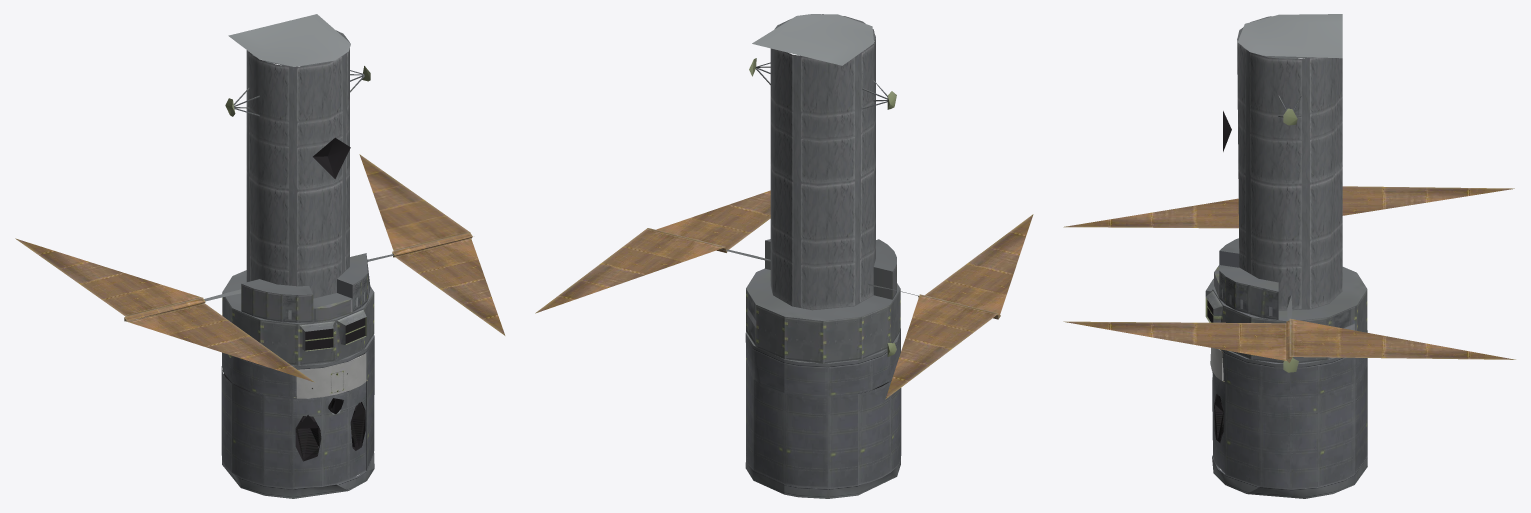
3 renders of one model, left to right at view 1: azimuth 30°, elevation 25°; view 2: azimuth 150°, elevation 25°; view 3: azimuth 270°, elevation 25°, orthographic.
Parts seen in each view (by area): view 1: hst; view 2: hst; view 3: hst.
Boxes of the visible parts, box(x1,y1,x2,y2) form: hst: box(15, 14, 505, 498); hst: box(535, 14, 1033, 498); hst: box(1063, 14, 1515, 498).
Bounding box in the file's own units: 455 × 519 × 497.
6 materials, 6 textured.
